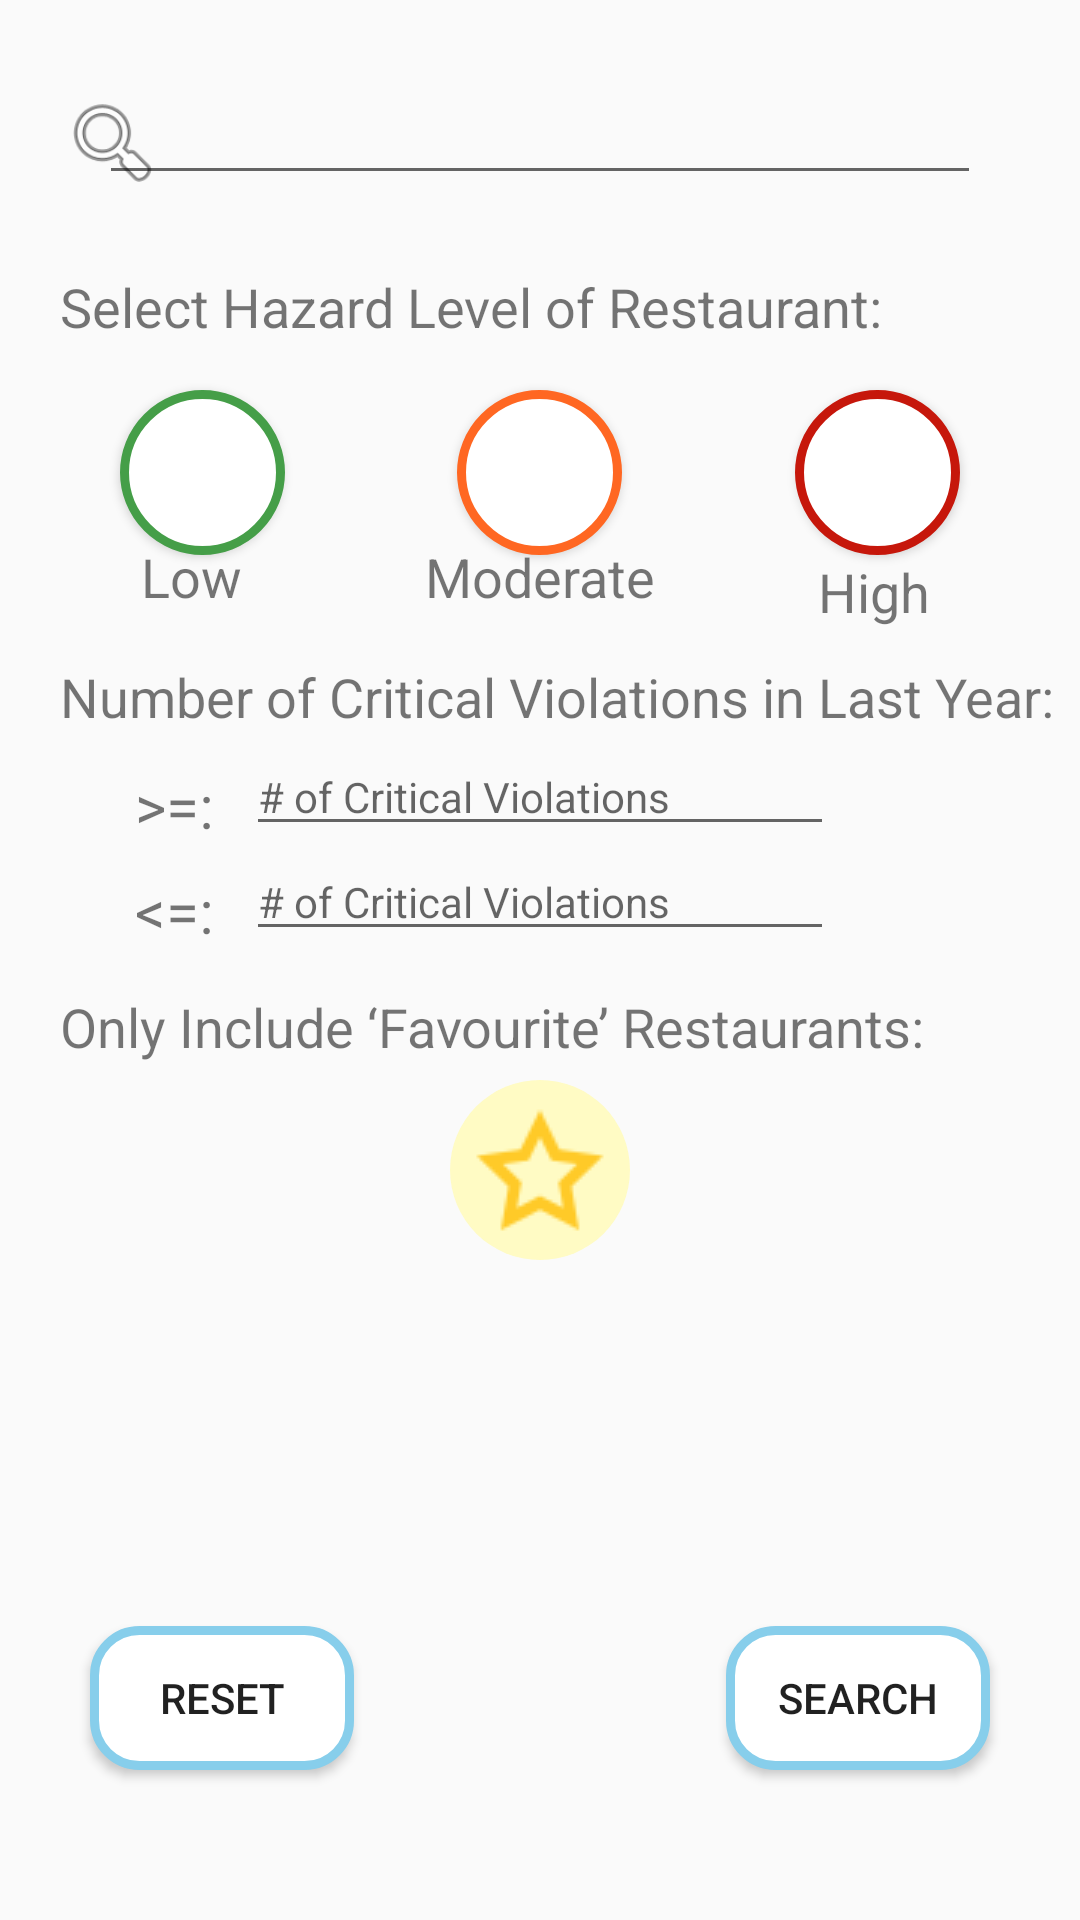

Icon click points for this 1080 × 1920 phone screenshot, format (x=x, y=y):
search: (x=119, y=143)
star unclick: (x=540, y=1170)
